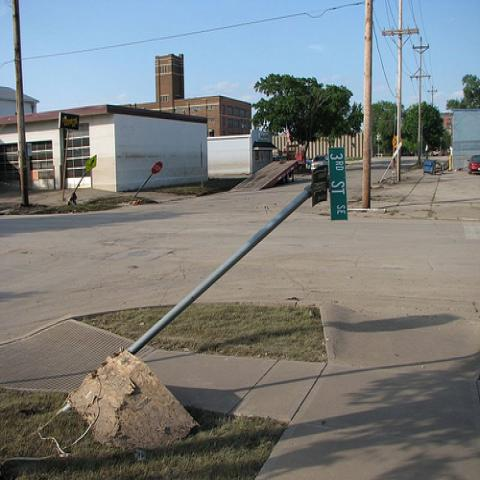car: (423, 159, 444, 176), (468, 154, 479, 176), (311, 154, 325, 171)
